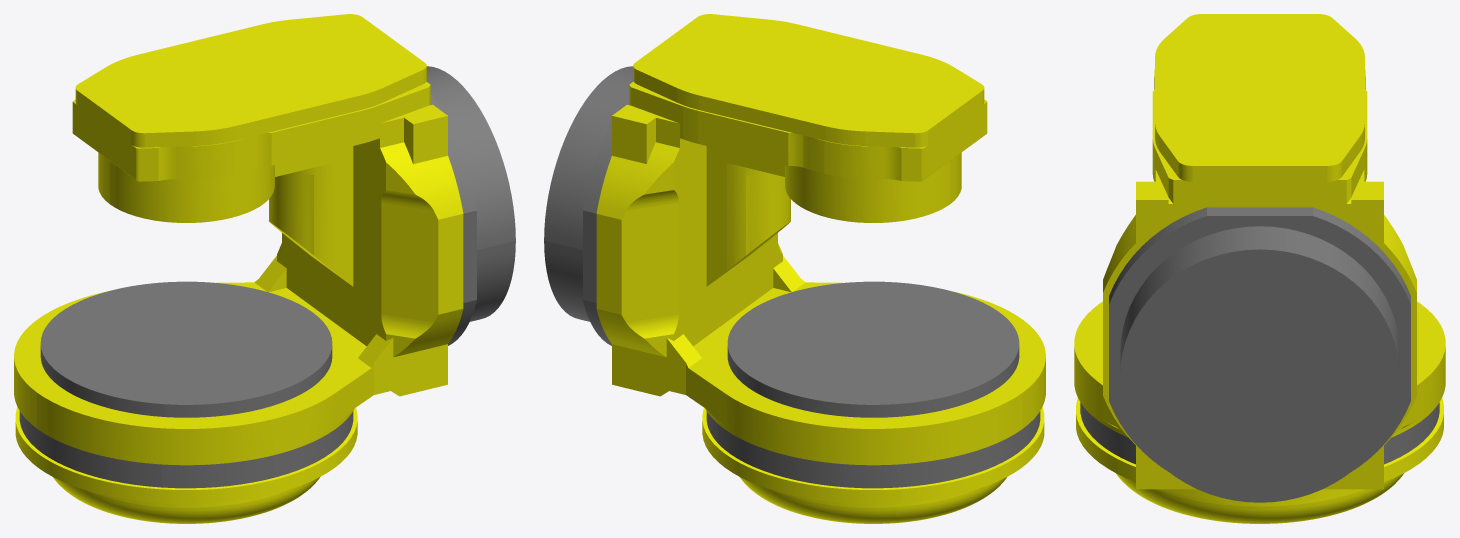
3 views of the same model, side by side, from view 1: azimuth 30°, elevation 25°; view 2: azimuth 150°, elevation 25°; view 3: azimuth 270°, elevation 25° (orthographic). The views are drawn at different scales.
Visible parts, largest first — view 1: Mesh_0; view 2: Mesh_0; view 3: Mesh_0.
Boxes of the visible parts, left/top/right/bottom form: Mesh_0: left=14, top=14, right=515, bottom=523; Mesh_0: left=544, top=14, right=1045, bottom=523; Mesh_0: left=1074, top=14, right=1445, bottom=523.
Size of the model in its own units: 0.3407 by 0.3065 by 0.246.
